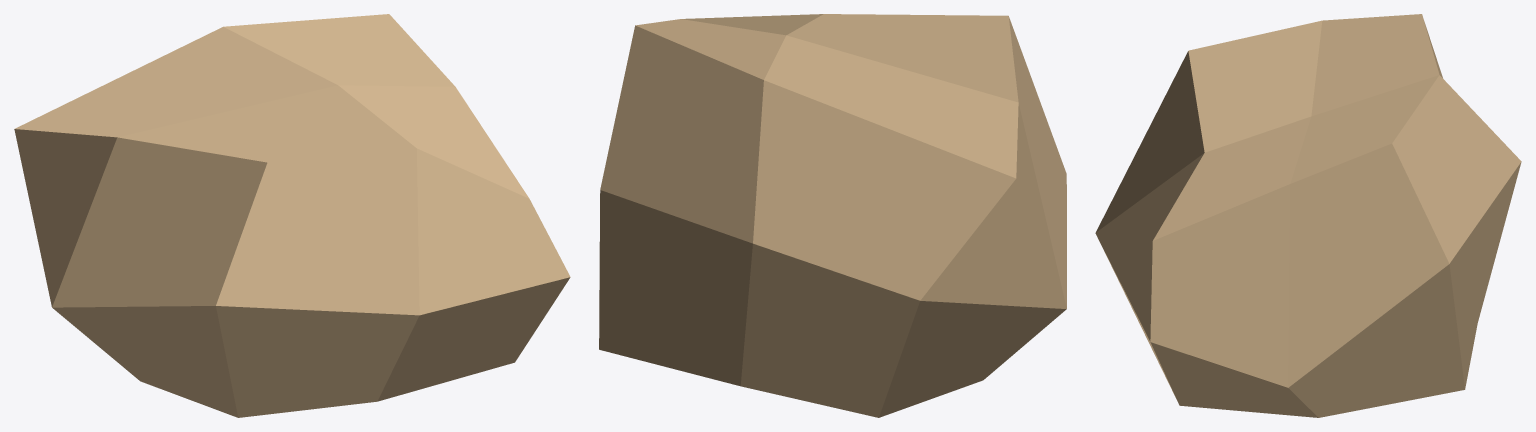
Rendered from Roca3FBX.fbx.
The picture shows the model from 3 angles, left to right: view 1: azimuth 30°, elevation 25°; view 2: azimuth 150°, elevation 25°; view 3: azimuth 270°, elevation 25°; orthographic projection. The views are drawn at different scales.
Visible parts, largest first — view 1: Roca3; view 2: Roca3; view 3: Roca3.
Part boxes in pixels (box(x1,y1,x2,y2)): Roca3: box(14, 14, 570, 417); Roca3: box(599, 14, 1066, 417); Roca3: box(1095, 14, 1521, 417).
Size of the model in its own units: 236 by 152 by 214.
